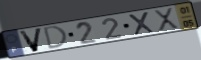2: (75, 20, 100, 45), (101, 17, 124, 41)
D: (43, 24, 70, 51)
V: (17, 26, 44, 53)
X: (126, 11, 157, 37), (152, 7, 181, 32)
